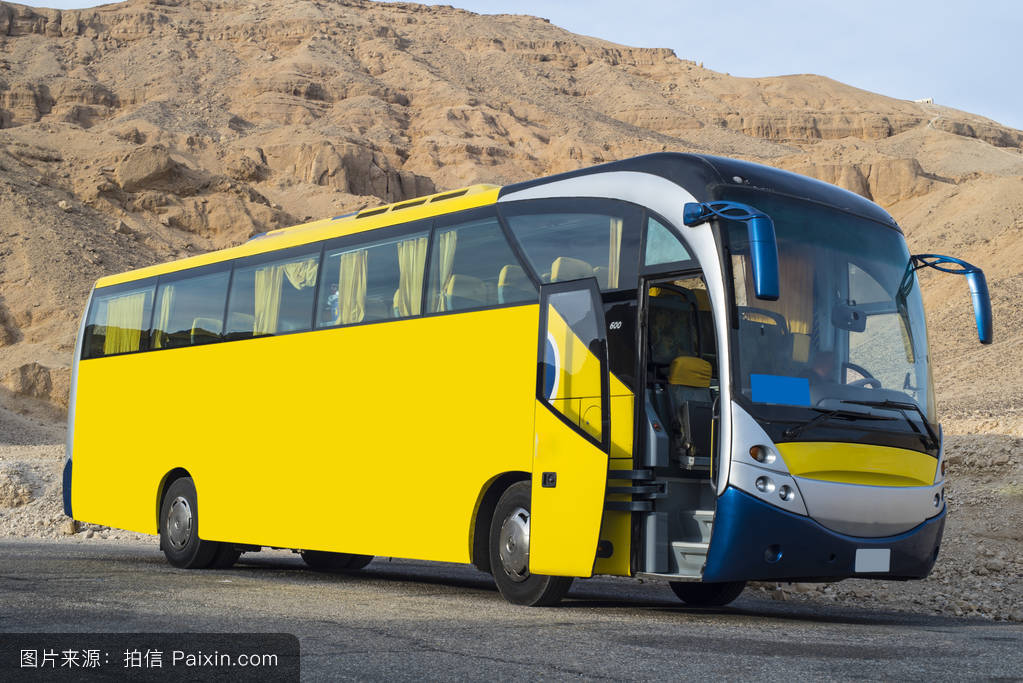bus: (76, 203, 945, 564)
